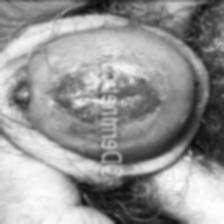Potentially Malignant Skin Tumors: (11, 61, 150, 119)
